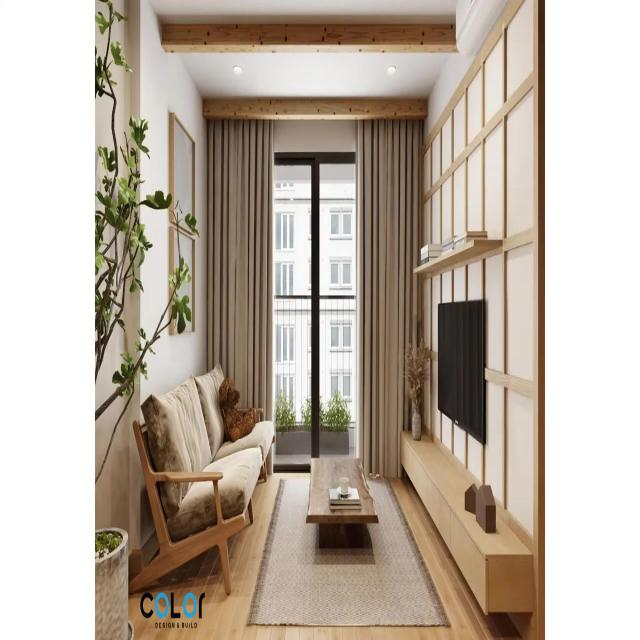door: (272, 151, 356, 468)
obstacle: (129, 362, 275, 596), (306, 456, 378, 548)
